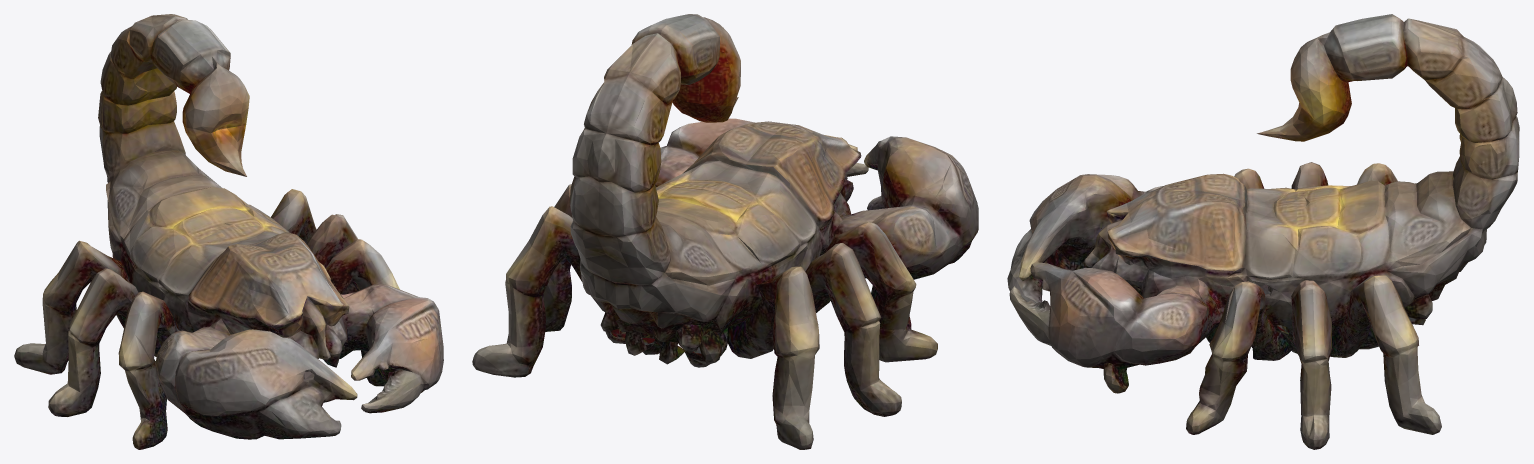
Rendered from emberScorpion.glb.
3 renders of one model, left to right at view 1: azimuth 30°, elevation 25°; view 2: azimuth 150°, elevation 25°; view 3: azimuth 270°, elevation 25°, orthographic. The views are drawn at different scales.
Parts seen in each view (by area): view 1: world; view 2: world; view 3: world.
Boxes of the visible parts, x1,y1,x2,y2 form: world: [14, 14, 443, 449]; world: [472, 14, 978, 449]; world: [1007, 14, 1519, 449].
Bounding box in the file's own units: 0.8096 × 0.7481 × 0.994.
1 material, 1 textured.
